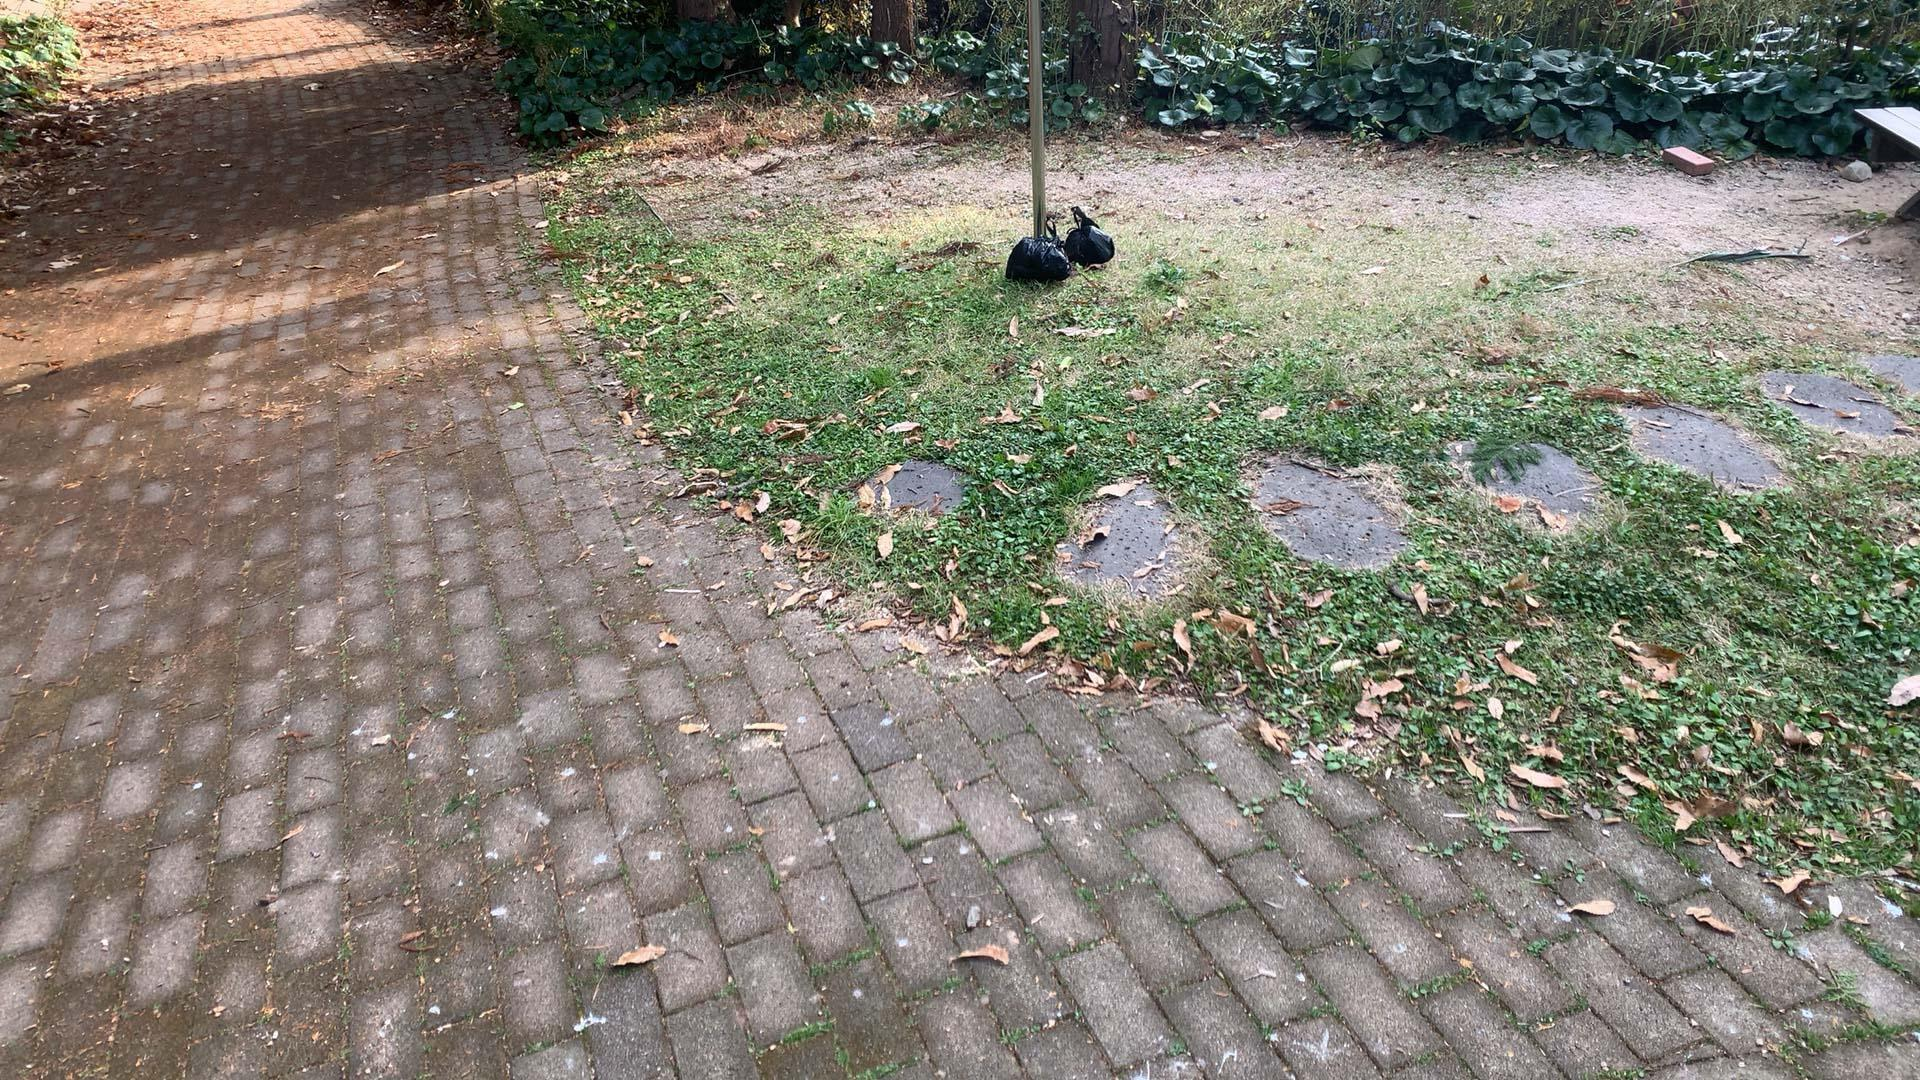black_bag: (1004, 214, 1069, 284), (1064, 204, 1118, 265)
